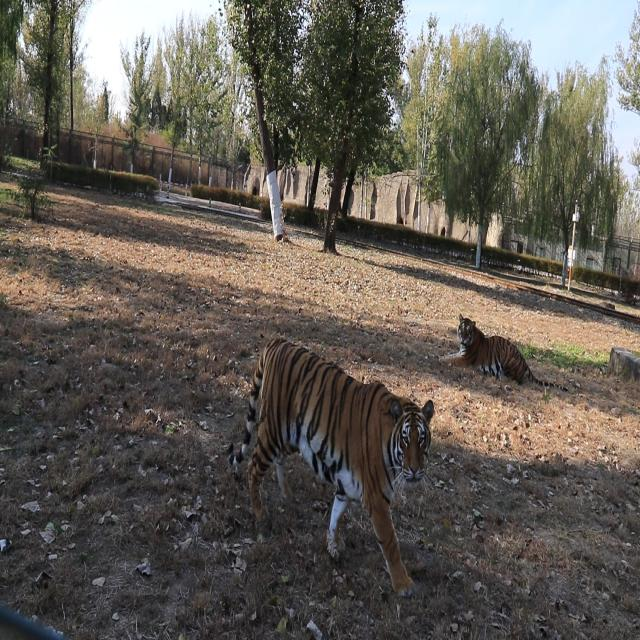Tiger: (227, 336, 447, 597), (436, 308, 560, 389)
